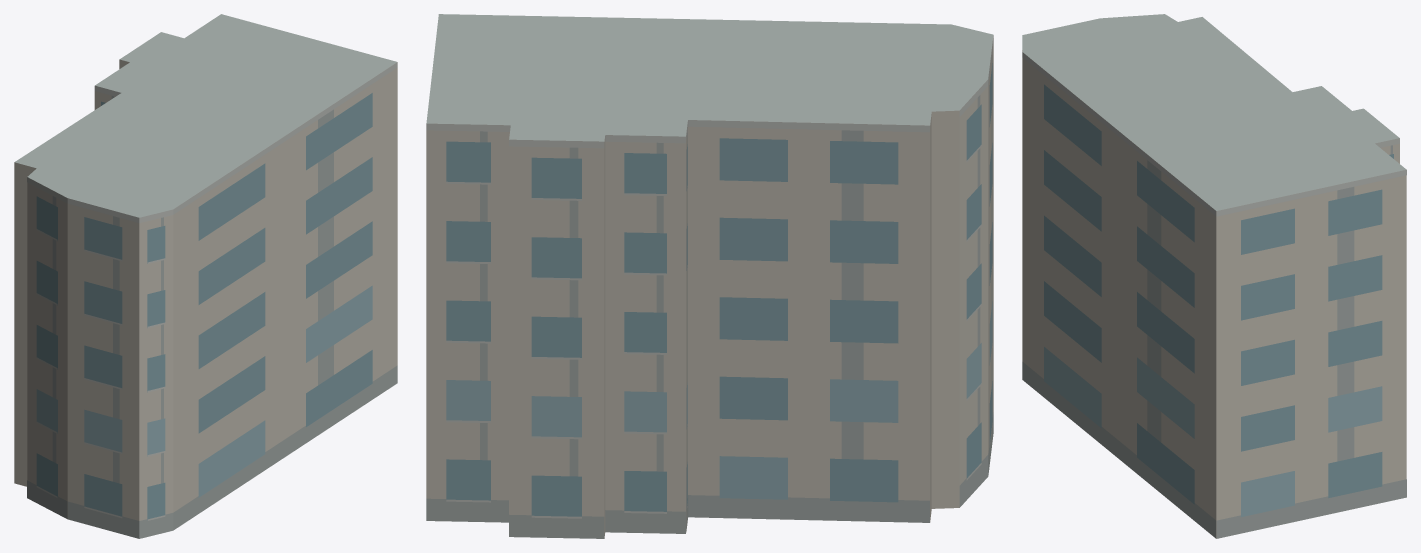
Rendered from survey-upis-32926541.glb.
The picture shows the model from 3 angles, left to right: view 1: azimuth 30°, elevation 25°; view 2: azimuth 150°, elevation 25°; view 3: azimuth 270°, elevation 25°; orthographic projection. The views are drawn at different scales.
Visible parts, largest first — view 1: survey-upis-32926541.tmp; view 2: survey-upis-32926541.tmp; view 3: survey-upis-32926541.tmp.
Boxes of the visible parts, x1=… form: survey-upis-32926541.tmp: x1=14, y1=14, x2=397, y2=538; survey-upis-32926541.tmp: x1=426, y1=14, x2=993, y2=538; survey-upis-32926541.tmp: x1=1022, y1=14, x2=1406, y2=538.
Bounding box in the file's own units: 18.45 × 14.3 × 15.21.
